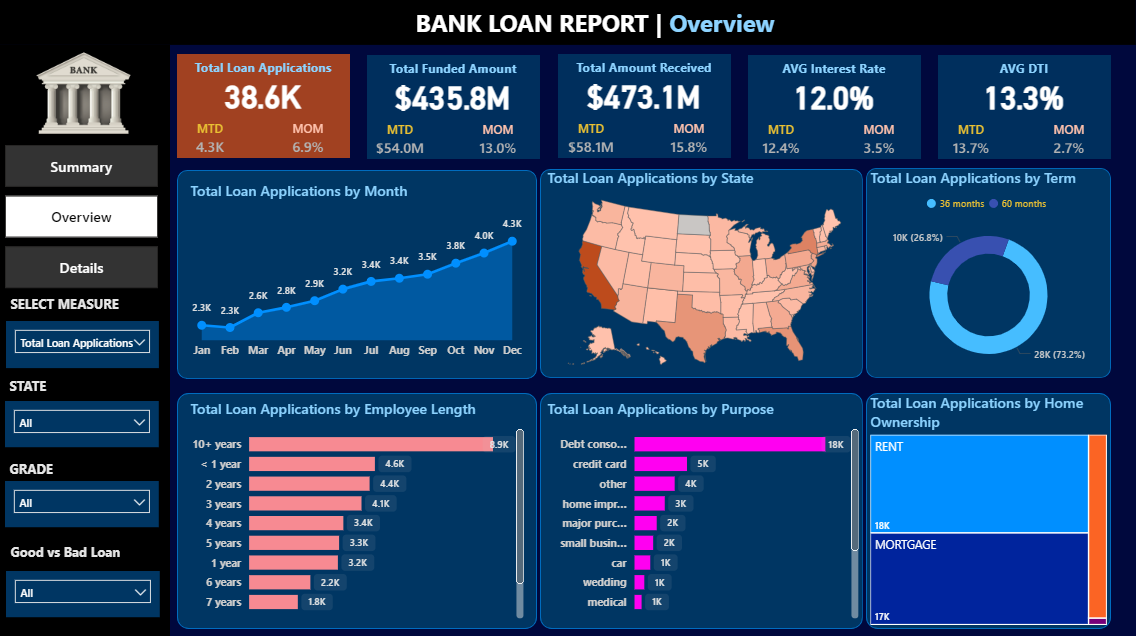

This screenshot's page, from the dashboard's own definition file:
{"tool":"powerbi","page":{"name":"Overview","canvas":[1280,720],"ordinal":1},"visuals":[{"type":"shape","box":[0,0,1280,55.3],"z":0},{"type":"shape","box":[201.1,65.2,194.6,117],"z":0,"group":"g1"},{"type":"shape","box":[629.2,65.2,194.6,117],"z":0,"group":"g3"},{"type":"shape","box":[415.2,66.4,194.6,117],"z":0,"group":"g2"},{"type":"shape","box":[843.2,66.4,194.6,117],"z":0,"group":"g4"},{"type":"shape","box":[1057.2,66.4,194.6,117],"z":0,"group":"g5"},{"type":"shape","box":[0,55.1,193.5,664.9],"z":1000},{"type":"card","fields":{"Values":["financial_loan.Total Loan Applications"]},"box":[181.1,81.3,232.9,59.6],"z":1000,"group":"g1"},{"type":"card","fields":{"Values":["financial_loan.Total Amount Received"]},"box":[609.2,81.3,232.9,59.6],"z":1000,"group":"g3"},{"type":"card","fields":{"Values":["financial_loan.Total Funded Amount"]},"box":[395.2,82.5,232.9,59.6],"z":1000,"group":"g2"},{"type":"card","fields":{"Values":["financial_loan.Avg Interest Rate"]},"box":[823.2,82.5,232.9,59.6],"z":1000,"group":"g4"},{"type":"card","fields":{"Values":["financial_loan.AVG DTI"]},"box":[1037.2,82.5,232.9,59.6],"z":1000,"group":"g5"},{"type":"textbox","box":[464.6,6.8,439.9,48.4],"z":2000},{"type":"textbox","box":[172.1,65.6,252,31.5],"z":2000,"group":"g1"},{"type":"textbox","box":[600.2,65.6,252,31.5],"z":2000,"group":"g3"},{"type":"textbox","box":[386.2,66.8,252,31.5],"z":2000,"group":"g2"},{"type":"textbox","box":[814.2,66.8,252,31.5],"z":2000,"group":"g4"},{"type":"textbox","box":[1028.2,66.8,252,31.5],"z":2000,"group":"g5"},{"type":"textbox","box":[9,330.8,174.4,34.9],"z":2000,"group":"g9"},{"type":"textbox","box":[7.9,423.5,68.6,31.5],"z":2000,"group":"g6"},{"type":"textbox","box":[7.9,516.8,68.6,31.5],"z":2000,"group":"g7"},{"type":"textbox","box":[9,609.8,172.1,31.5],"z":2000,"group":"g8"},{"type":"card","title":"MTD","fields":{"Values":["financial_loan.MTD Loan Applications"]},"box":[201.3,140.9,74.2,41.6],"z":3000,"group":"g1"},{"type":"card","title":"MTD","fields":{"Values":["financial_loan.MTD Total Amount Recieved"]},"box":[629.4,140.9,74.2,41.6],"z":3000,"group":"g3"},{"type":"card","title":"MTD","fields":{"Values":["financial_loan.MTD Funded Amount"]},"box":[415.4,142.1,74.2,41.6],"z":3000,"group":"g2"},{"type":"card","title":"MTD","fields":{"Values":["financial_loan.MTD AVG Int Rate"]},"box":[843.4,142.1,74.2,41.6],"z":3000,"group":"g4"},{"type":"card","title":"MTD","fields":{"Values":["financial_loan.MTD AVG DTI"]},"box":[1057.4,142.1,74.2,41.6],"z":3000,"group":"g5"},{"type":"shape","box":[201.4,195.8,405,235.1],"z":3000},{"type":"group","id":"g1","title":"Group 1","box":[172.1,65.2,252,117],"z":4000},{"type":"card","title":"MOM","fields":{"Values":["financial_loan.MOM Loan Applications"]},"box":[311.6,140.9,74.2,41.6],"z":4000,"group":"g1"},{"type":"card","title":"MOM","fields":{"Values":["financial_loan.MOM Total Received Amount"]},"box":[739.7,140.9,74.2,41.6],"z":4000,"group":"g3"},{"type":"card","title":"MOM","fields":{"Values":["financial_loan.MOM Total Funded Amount"]},"box":[525.7,142.1,74.2,41.6],"z":4000,"group":"g2"},{"type":"card","title":"MOM","fields":{"Values":["financial_loan.MOM AVG Int Rate"]},"box":[953.7,142.1,74.2,41.6],"z":4000,"group":"g4"},{"type":"card","title":"MOM","fields":{"Values":["financial_loan.MOM AVG DTI"]},"box":[1167.7,142.1,74.2,41.6],"z":4000,"group":"g5"},{"type":"group","id":"g2","title":"Group 1","box":[386.2,66.4,252,117],"z":5000},{"type":"group","id":"g3","title":"Group 1","box":[600.2,65.2,252,117],"z":6000},{"type":"group","id":"g4","title":"Group 1","box":[814.2,66.4,252,117],"z":7000},{"type":"group","id":"g5","title":"Group 1","box":[1028.2,66.4,252,117],"z":8000},{"type":"slicer","fields":{"Values":["financial_loan.address_state"]},"box":[7.9,455.5,173.2,51.8],"z":9000},{"type":"group","id":"g6","title":"Group 1","box":[7.9,423.5,68.6,31.5],"z":10000},{"type":"slicer","fields":{"Values":["financial_loan.grade"]},"box":[7.9,545.5,173.2,51.8],"z":11000},{"type":"group","id":"g7","title":"Group 1","box":[7.9,516.8,68.6,31.5],"z":12000},{"type":"slicer","fields":{"Values":["financial_loan.Good vs Bad Loan"]},"box":[8.9,646.6,173.2,51.8],"z":13000},{"type":"group","id":"g8","title":"Group 1","box":[9,609.8,172.1,31.5],"z":14000},{"type":"areaChart","fields":{"Y":["financial_loan.Total Loan Applications"],"Category":["Date Table.Month"]},"box":[211.5,208.1,384.8,208.1],"z":15000},{"type":"slicer","fields":{"Values":["Parameter.Parameter"]},"box":[9,365.6,172.1,52.9],"z":16000},{"type":"group","id":"g9","title":"Group 1","box":[9,330.8,174.4,34.9],"z":17000},{"type":"shape","box":[609.8,194.6,363.4,235.1],"z":18000},{"type":"shapeMap","fields":{"Value":["financial_loan.Total Loan Applications"],"Category":["financial_loan.address_state"]},"box":[613.1,193.5,363.4,236.2],"z":19000},{"type":"shape","box":[976.5,193.5,275.6,236.2],"z":20000},{"type":"donutChart","fields":{"Y":["financial_loan.Total Loan Applications"],"Category":["financial_loan.term"]},"box":[976.5,193.5,275.6,237.4],"z":21000},{"type":"shape","box":[201.4,446.6,405,265.5],"z":22000},{"type":"barChart","fields":{"Y":["financial_loan.Total Loan Applications"],"Category":["financial_loan.emp_length"]},"box":[211.5,453.4,384.8,252],"z":23000},{"type":"shape","box":[609.8,446.6,363.4,265.5],"z":24000},{"type":"barChart","fields":{"Y":["financial_loan.Total Loan Applications"],"Category":["financial_loan.purpose"]},"box":[613.1,453.4,360,252],"z":25000},{"type":"shape","box":[976.5,446.6,275.6,265.5],"z":26000},{"type":"treemap","fields":{"Values":["financial_loan.Total Loan Applications"],"Group":["financial_loan.home_ownership"]},"box":[976.5,446.6,275.6,265.5],"z":27000},{"type":"pageNavigator","box":[7.9,167.6,172.1,163.1],"z":28000},{"type":"image","box":[38.2,55.1,115.9,108],"z":29000}]}

Visuals, with their boxes in screenshot pixels (x1, y1, x2, y2), scaled from the page's 1280x720 canvas onto the 1136x636 screenshot:
shape: bbox=(0, 0, 1135, 49)
shape: bbox=(178, 58, 351, 161)
shape: bbox=(558, 58, 731, 161)
shape: bbox=(368, 59, 541, 162)
shape: bbox=(748, 59, 921, 162)
shape: bbox=(938, 59, 1111, 162)
shape: bbox=(0, 49, 172, 635)
card - financial_loan.Total Loan Applications: bbox=(161, 72, 367, 124)
card - financial_loan.Total Amount Received: bbox=(541, 72, 747, 124)
card - financial_loan.Total Funded Amount: bbox=(351, 73, 557, 126)
card - financial_loan.Avg Interest Rate: bbox=(731, 73, 937, 126)
card - financial_loan.AVG DTI: bbox=(921, 73, 1127, 126)
textbox: bbox=(412, 6, 803, 49)
textbox: bbox=(153, 58, 376, 86)
textbox: bbox=(533, 58, 756, 86)
textbox: bbox=(343, 59, 566, 87)
textbox: bbox=(723, 59, 946, 87)
textbox: bbox=(913, 59, 1135, 87)
textbox: bbox=(8, 292, 163, 323)
textbox: bbox=(7, 374, 68, 402)
textbox: bbox=(7, 457, 68, 484)
textbox: bbox=(8, 539, 161, 566)
"MTD" card: bbox=(179, 124, 245, 161)
"MTD" card: bbox=(559, 124, 624, 161)
"MTD" card: bbox=(369, 126, 435, 162)
"MTD" card: bbox=(749, 126, 814, 162)
"MTD" card: bbox=(938, 126, 1004, 162)
shape: bbox=(179, 173, 538, 381)
"Group 1" group: bbox=(153, 58, 376, 161)
"MOM" card: bbox=(277, 124, 342, 161)
"MOM" card: bbox=(656, 124, 722, 161)
"MOM" card: bbox=(467, 126, 532, 162)
"MOM" card: bbox=(846, 126, 912, 162)
"MOM" card: bbox=(1036, 126, 1102, 162)
"Group 1" group: bbox=(343, 59, 566, 162)
"Group 1" group: bbox=(533, 58, 756, 161)
"Group 1" group: bbox=(723, 59, 946, 162)
"Group 1" group: bbox=(913, 59, 1135, 162)
slicer - financial_loan.address_state: bbox=(7, 402, 161, 448)
"Group 1" group: bbox=(7, 374, 68, 402)
slicer - financial_loan.grade: bbox=(7, 482, 161, 528)
"Group 1" group: bbox=(7, 457, 68, 484)
slicer - financial_loan.Good vs Bad Loan: bbox=(8, 571, 162, 617)
"Group 1" group: bbox=(8, 539, 161, 566)
areaChart - financial_loan.Total Loan Applications x Date Table.Month: bbox=(188, 184, 529, 368)
slicer - Parameter.Parameter: bbox=(8, 323, 161, 370)
"Group 1" group: bbox=(8, 292, 163, 323)
shape: bbox=(541, 172, 864, 380)
shapeMap - financial_loan.Total Loan Applications x financial_loan.address_state: bbox=(544, 171, 867, 380)
shape: bbox=(867, 171, 1111, 380)
donutChart - financial_loan.Total Loan Applications x financial_loan.term: bbox=(867, 171, 1111, 381)
shape: bbox=(179, 394, 538, 629)
barChart - financial_loan.Total Loan Applications x financial_loan.emp_length: bbox=(188, 401, 529, 623)
shape: bbox=(541, 394, 864, 629)
barChart - financial_loan.Total Loan Applications x financial_loan.purpose: bbox=(544, 401, 864, 623)
shape: bbox=(867, 394, 1111, 629)
treemap - financial_loan.Total Loan Applications x financial_loan.home_ownership: bbox=(867, 394, 1111, 629)
pageNavigator: bbox=(7, 148, 160, 292)
image: bbox=(34, 49, 137, 144)
